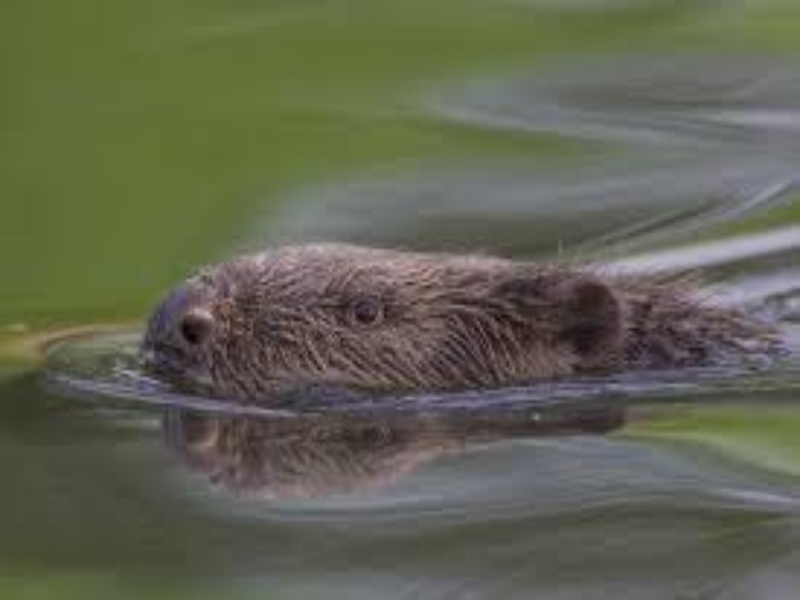minkish: (132, 233, 797, 411)
